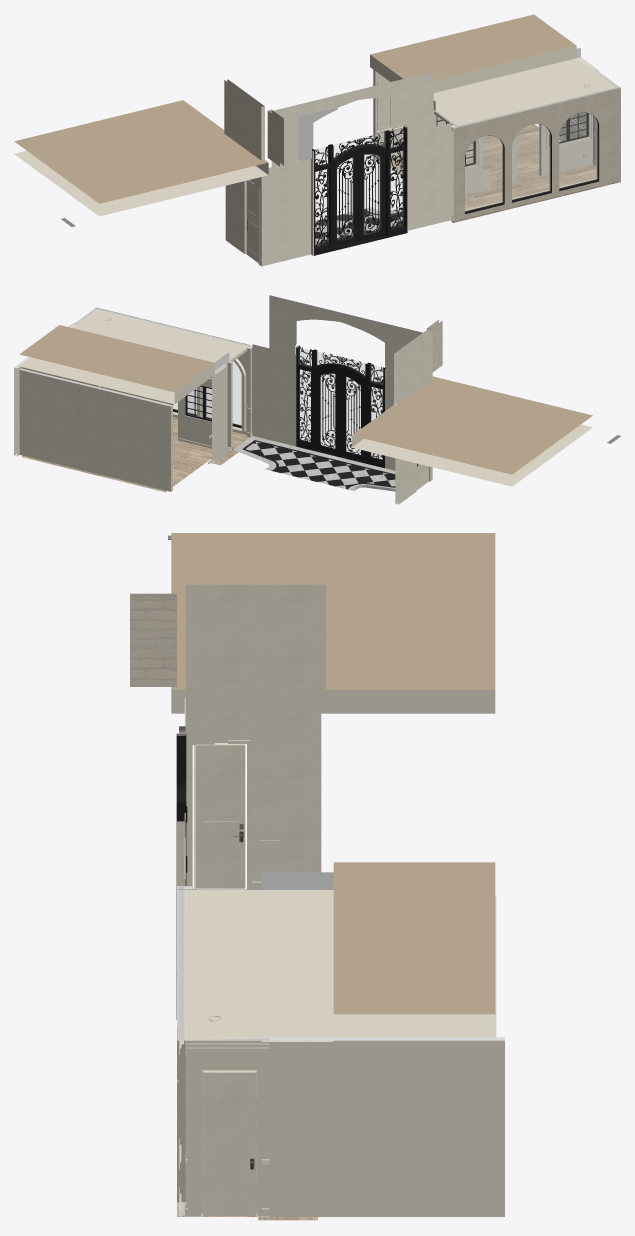
The model's file is office-hall-d42216932373.glb.
3 renders of one model, top to bottom at view 1: azimuth 30°, elevation 25°; view 2: azimuth 150°, elevation 25°; view 3: azimuth 270°, elevation 25°, orthographic. The views are drawn at different scales.
Parts seen in each view (by area): view 1: office-hall-look-2575515a05775d9e, office-hall-look-d5a4a1b5d3594c04, office-hall-c9e78b9ec1bb39cd, office-hall-look-34525a54e63b733b, office-hall-dbd60ee5c3733ed6, office-hall-look-bce662e26d5a5947, office-hall-c02a36d0521470a9, office-hall-38561c12898e4d43, office-hall-5cbcc744e6f960f3, office-hall-look-dbd60ee5c3733ed6, office-hall-look-746250f96522f643, office-hall-c374268555806af8 (+22 smaller); view 2: office-hall-look-2575515a05775d9e, office-hall-look-19647d6da46c2b80, office-hall-look-d5a4a1b5d3594c04, office-hall-look-34525a54e63b733b, office-hall-dbd60ee5c3733ed6, office-hall-look-e388ad8855329420, office-hall-look-3231f73bae020736, office-hall-look-bce662e26d5a5947, office-hall-look-746250f96522f643, office-hall-look-b3086b8cd368d7da, office-hall-look-26f615ec640e02ab, office-hall-look-6a051330000fbca1 (+20 smaller); view 3: office-hall-look-2575515a05775d9e, office-hall-look-6a1144f4e43410bb, office-hall-look-746250f96522f643, office-hall-look-85f0fd939e0fcc78, office-hall-dbd60ee5c3733ed6, office-hall-look-dbd60ee5c3733ed6, office-hall-cf6d22c5317ced0b, office-hall-look-3322bc58bedf5620, office-hall-68d06b361ac47823, office-hall-look-5e296beffb47d853, office-hall-c9e78b9ec1bb39cd, office-hall-look-bce662e26d5a5947.
Boxes of the visible parts, x1=… form: office-hall-look-2575515a05775d9e: x1=14, y1=14, x2=576, y2=216; office-hall-look-d5a4a1b5d3594c04: x1=261, y1=123, x2=451, y2=266; office-hall-c9e78b9ec1bb39cd: x1=451, y1=90, x2=604, y2=221; office-hall-look-34525a54e63b733b: x1=271, y1=72, x2=433, y2=166; office-hall-dbd60ee5c3733ed6: x1=434, y1=68, x2=620, y2=127; office-hall-look-bce662e26d5a5947: x1=312, y1=126, x2=407, y2=255; office-hall-c02a36d0521470a9: x1=512, y1=124, x2=550, y2=199; office-hall-38561c12898e4d43: x1=465, y1=136, x2=503, y2=211; office-hall-5cbcc744e6f960f3: x1=559, y1=112, x2=597, y2=188; office-hall-look-dbd60ee5c3733ed6: x1=433, y1=48, x2=599, y2=110; office-hall-look-746250f96522f643: x1=224, y1=79, x2=264, y2=160; office-hall-c374268555806af8: x1=451, y1=164, x2=620, y2=222; office-hall-look-2575515a05775d9e: x1=19, y1=325, x2=592, y2=486; office-hall-look-19647d6da46c2b80: x1=19, y1=368, x2=172, y2=491; office-hall-look-d5a4a1b5d3594c04: x1=252, y1=344, x2=395, y2=470; office-hall-look-34525a54e63b733b: x1=269, y1=295, x2=422, y2=378; office-hall-dbd60ee5c3733ed6: x1=73, y1=307, x2=249, y2=362; office-hall-look-e388ad8855329420: x1=246, y1=441, x2=395, y2=488; office-hall-look-3231f73bae020736: x1=314, y1=368, x2=340, y2=455; office-hall-look-bce662e26d5a5947: x1=296, y1=345, x2=385, y2=468; office-hall-look-746250f96522f643: x1=394, y1=328, x2=432, y2=405; office-hall-look-b3086b8cd368d7da: x1=299, y1=348, x2=383, y2=459; office-hall-look-26f615ec640e02ab: x1=340, y1=369, x2=366, y2=461; office-hall-look-6a051330000fbca1: x1=212, y1=364, x2=227, y2=462; office-hall-look-2575515a05775d9e: x1=171, y1=533, x2=495, y2=1037; office-hall-look-6a1144f4e43410bb: x1=269, y1=1037, x2=504, y2=1216; office-hall-look-746250f96522f643: x1=185, y1=584, x2=325, y2=689; office-hall-look-85f0fd939e0fcc78: x1=185, y1=713, x2=321, y2=889; office-hall-dbd60ee5c3733ed6: x1=178, y1=889, x2=277, y2=1040; office-hall-look-dbd60ee5c3733ed6: x1=261, y1=872, x2=333, y2=1041; office-hall-cf6d22c5317ced0b: x1=203, y1=1071, x2=256, y2=1215; office-hall-look-3322bc58bedf5620: x1=196, y1=744, x2=245, y2=888; office-hall-68d06b361ac47823: x1=185, y1=1037, x2=269, y2=1216; office-hall-look-5e296beffb47d853: x1=130, y1=593, x2=176, y2=686; office-hall-c9e78b9ec1bb39cd: x1=177, y1=886, x2=185, y2=1201; office-hall-look-bce662e26d5a5947: x1=176, y1=734, x2=186, y2=1019.
Size of the model in its own units: 18.71 by 5.17 by 5.78.
29 materials, 7 textured.
